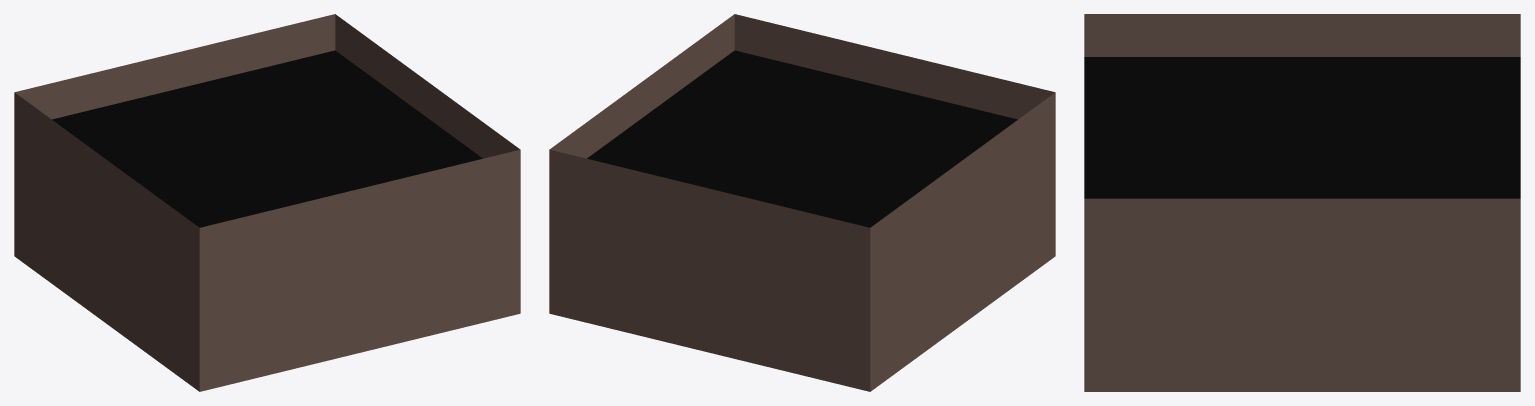
The model's file is Stockpile.fbx.
The picture shows the model from 3 angles, left to right: view 1: azimuth 30°, elevation 25°; view 2: azimuth 150°, elevation 25°; view 3: azimuth 270°, elevation 25°; orthographic projection. The views are drawn at different scales.
Visible parts, largest first — view 1: Cube; view 2: Cube; view 3: Cube.
Part boxes in pixels (x1,y1,x2,y2): Cube: [14, 14, 520, 391]; Cube: [549, 14, 1055, 391]; Cube: [1084, 14, 1520, 391].
Size of the model in its own units: 520 by 254 by 520.
